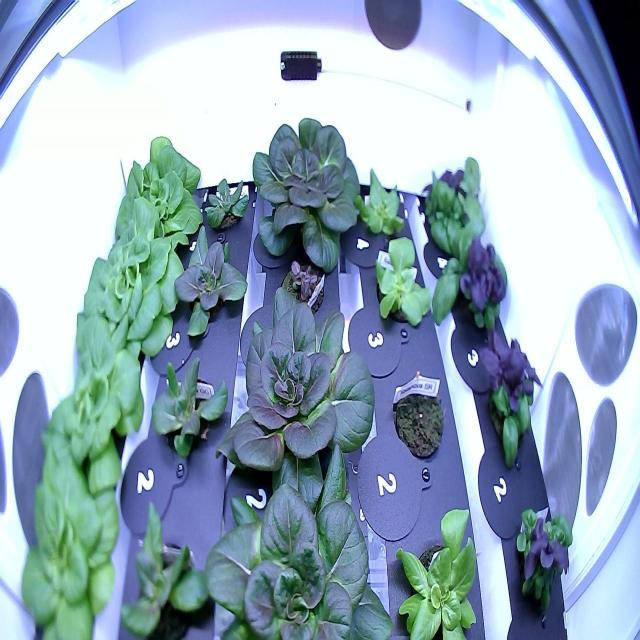pod: (389, 369, 450, 467)
young: (190, 431, 403, 640), (212, 276, 383, 519), (12, 427, 124, 639), (37, 306, 152, 498), (244, 105, 365, 284), (72, 191, 185, 380), (109, 487, 220, 639), (102, 128, 206, 268), (388, 495, 483, 639), (146, 346, 232, 469), (168, 231, 251, 346), (366, 226, 438, 334), (348, 157, 412, 244), (198, 170, 252, 240), (273, 256, 328, 323)
